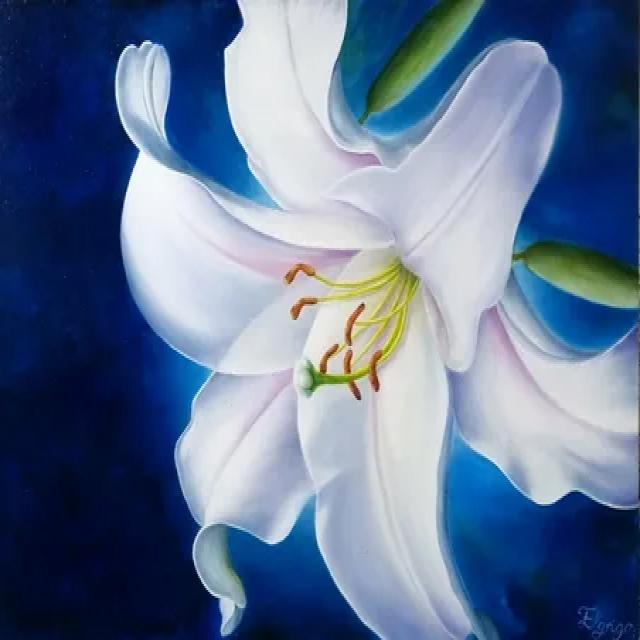lily: (73, 0, 640, 640)
